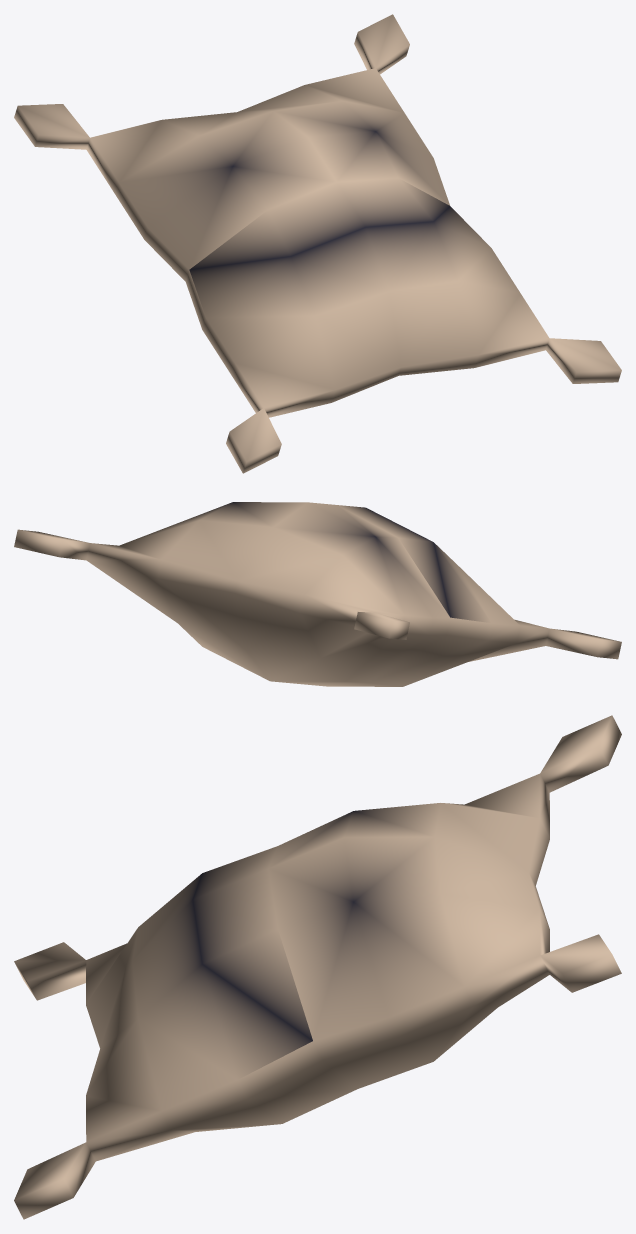
File: girth_flour.glb
The picture shows the model from 3 angles, top to bottom: view 1: azimuth 30°, elevation 25°; view 2: azimuth 150°, elevation 25°; view 3: azimuth 270°, elevation 25°; orthographic projection. The views are drawn at different scales.
Visible parts, largest first — view 1: Cube; view 2: Cube; view 3: Cube.
Boxes of the visible parts, <box> form: Cube: <box>14,14,621,473</box>; Cube: <box>14,502,621,686</box>; Cube: <box>14,715,621,1219</box>.
Size of the model in its own units: 1.99 by 1.03 by 2.14.
